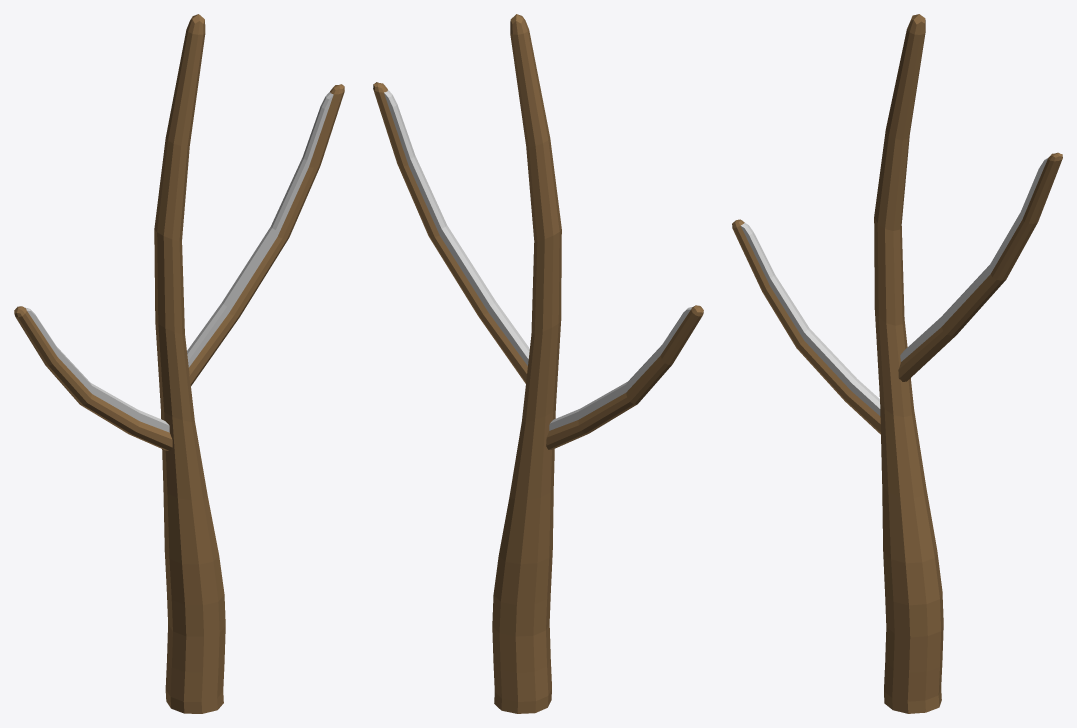
Rendered from Tree3.fbx.
The picture shows the model from 3 angles, left to right: view 1: azimuth 30°, elevation 25°; view 2: azimuth 150°, elevation 25°; view 3: azimuth 330°, elevation 25°; orthographic projection.
Visible parts, largest first — view 1: Tree3; view 2: Tree3; view 3: Tree3.
Boxes of the visible parts, bbox=[...] form: Tree3: bbox=[14, 14, 344, 713]; Tree3: bbox=[373, 14, 703, 713]; Tree3: bbox=[732, 14, 1062, 713].
Bounding box in the file's own units: 333 × 667 × 48.69.
